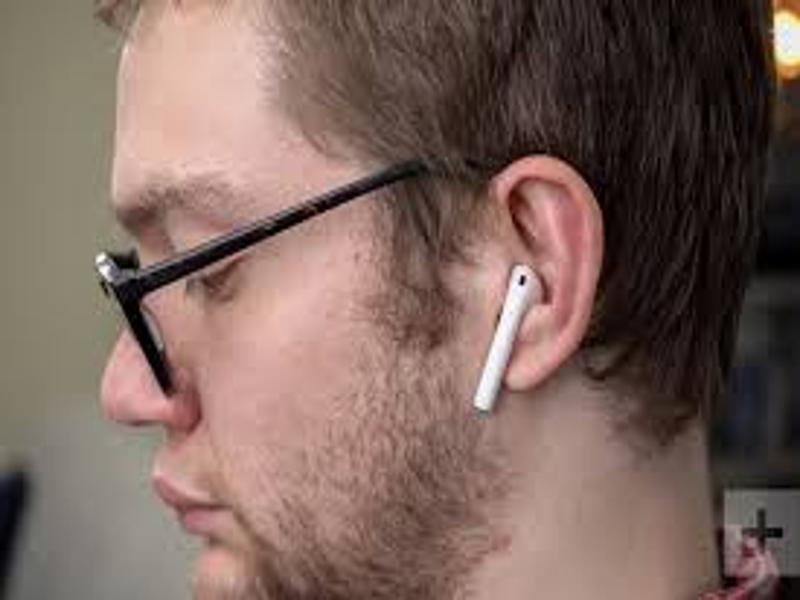headphone: (471, 261, 543, 413)
